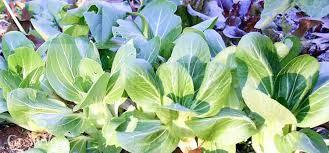Healthy-Pechay: (0, 12, 323, 150), (44, 33, 101, 107), (83, 2, 131, 46), (4, 46, 45, 85)
